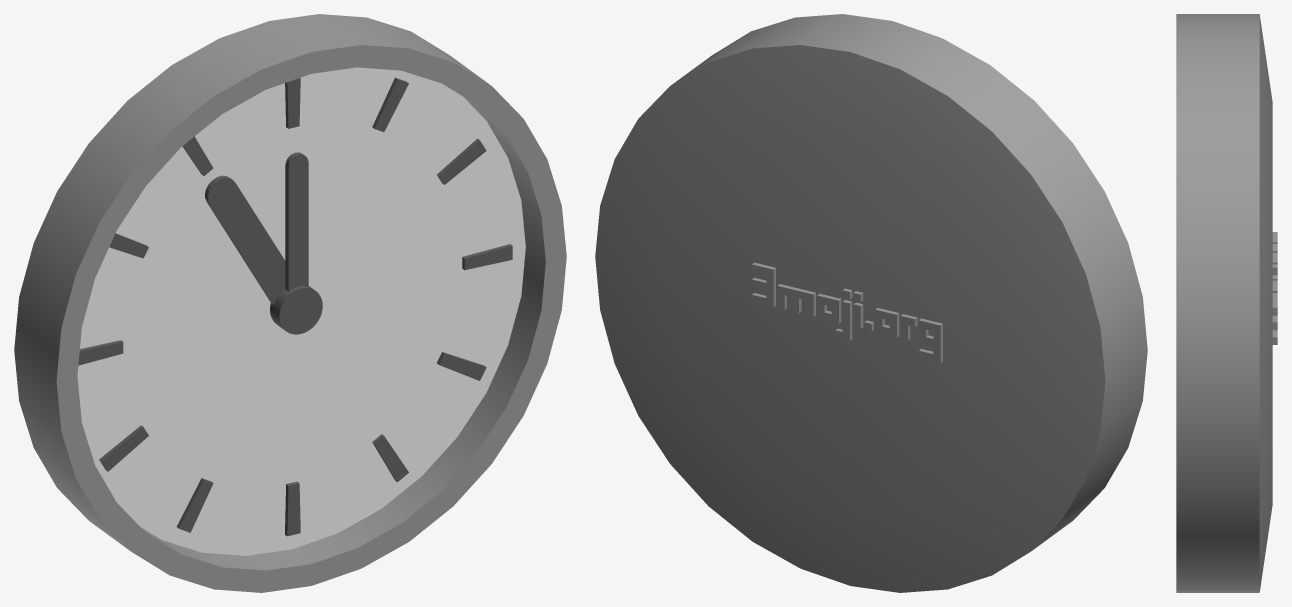
The model's file is eleven_oclock.fbx.
The picture shows the model from 3 angles, left to right: view 1: azimuth 30°, elevation 25°; view 2: azimuth 150°, elevation 25°; view 3: azimuth 270°, elevation 25°; orthographic projection.
Parts seen in each view (by area): view 1: Circle.2495; view 2: Circle.2495; view 3: Circle.2495.
Part boxes in pixels (left/top/right/bottom): Circle.2495: left=14, top=14, right=566, bottom=592; Circle.2495: left=595, top=14, right=1147, bottom=592; Circle.2495: left=1176, top=14, right=1277, bottom=592.
Size of the model in its own units: 233 by 233 by 40.69.
1 material, 1 textured.
